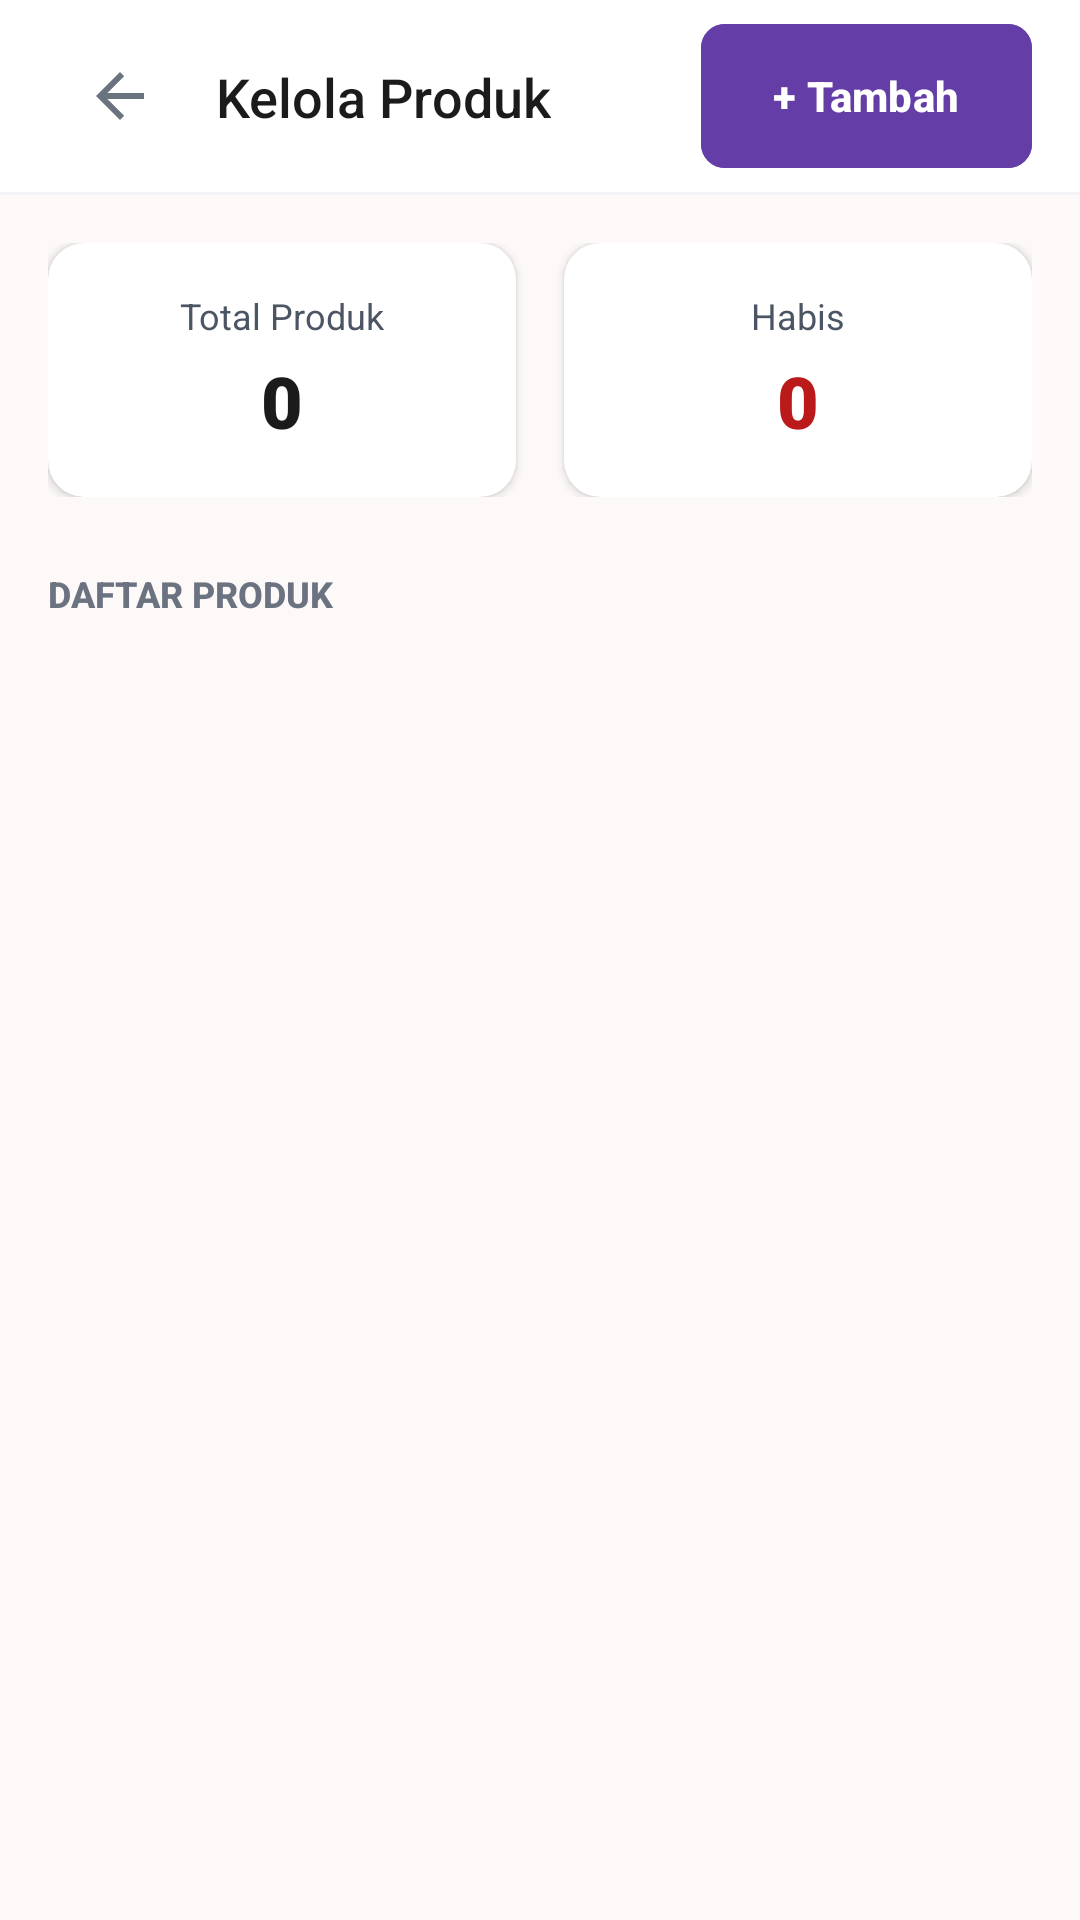

Screen size 1080px×1920px. Icon name, then its center in pixels as [x,y]:
Kembali: [120,96]
